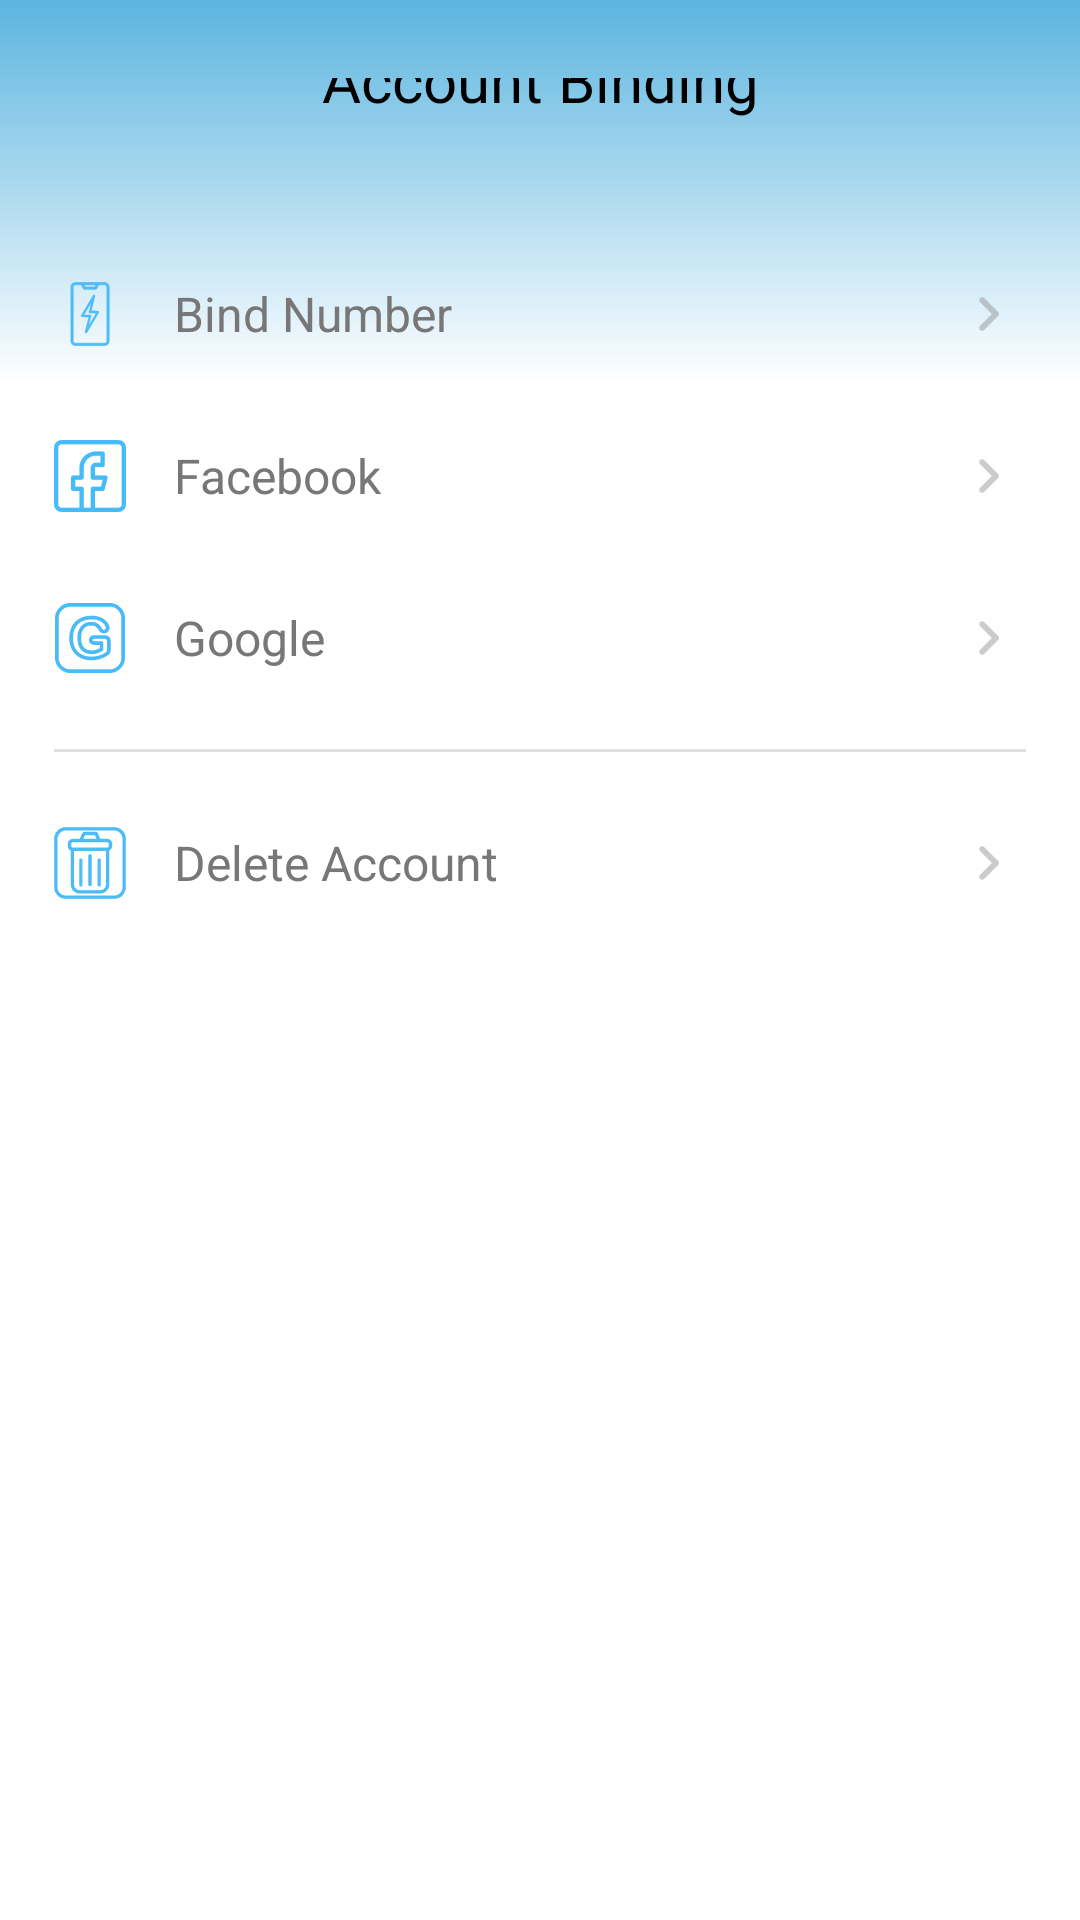

Screen size 1080px×1920px. Icon name, then its center in pixels as (x,y):
bind phone charging: (90,316)
